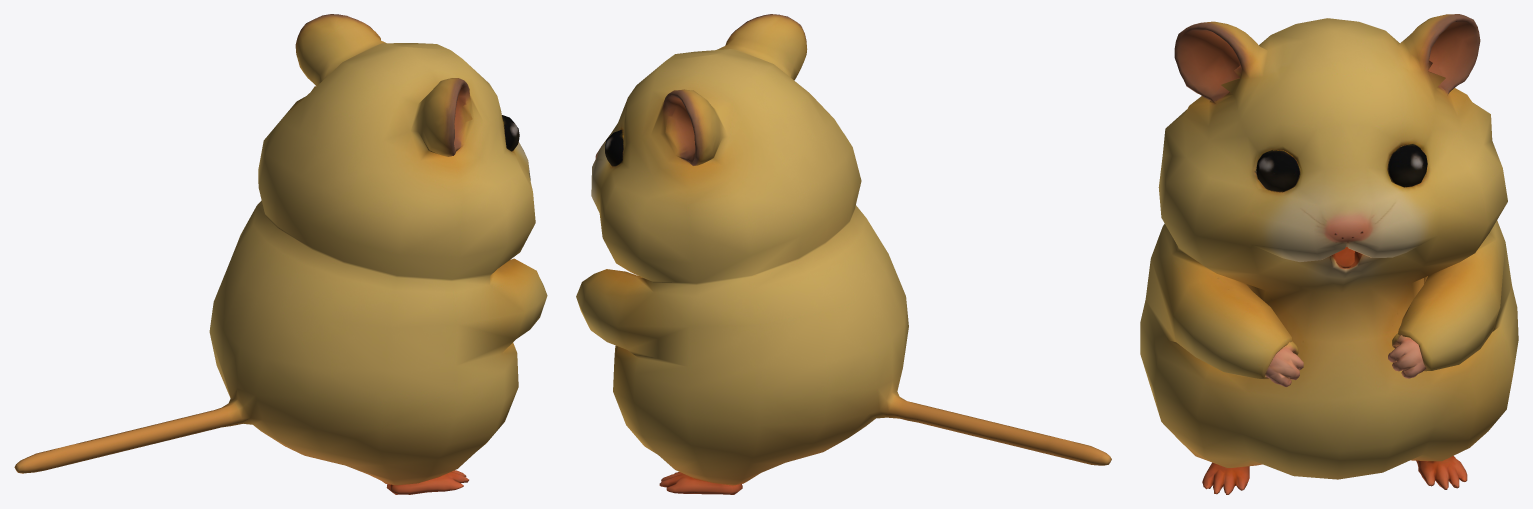
The picture shows the model from 3 angles, left to right: view 1: azimuth 30°, elevation 25°; view 2: azimuth 150°, elevation 25°; view 3: azimuth 270°, elevation 25°; orthographic projection. The views are drawn at different scales.
Visible parts, largest first — view 1: tripo_node_6b4e5bec-7887-4120-9def-5070a30f4b9e; view 2: tripo_node_6b4e5bec-7887-4120-9def-5070a30f4b9e; view 3: tripo_node_6b4e5bec-7887-4120-9def-5070a30f4b9e.
Part boxes in pixels (<box>): tripo_node_6b4e5bec-7887-4120-9def-5070a30f4b9e: <box>14,14,547,494</box>; tripo_node_6b4e5bec-7887-4120-9def-5070a30f4b9e: <box>576,14,1111,494</box>; tripo_node_6b4e5bec-7887-4120-9def-5070a30f4b9e: <box>1140,14,1518,494</box>.
Bounding box in the file's own units: 0.998 × 0.7598 × 0.5605.
Materials: 1 (1 with a texture image).
